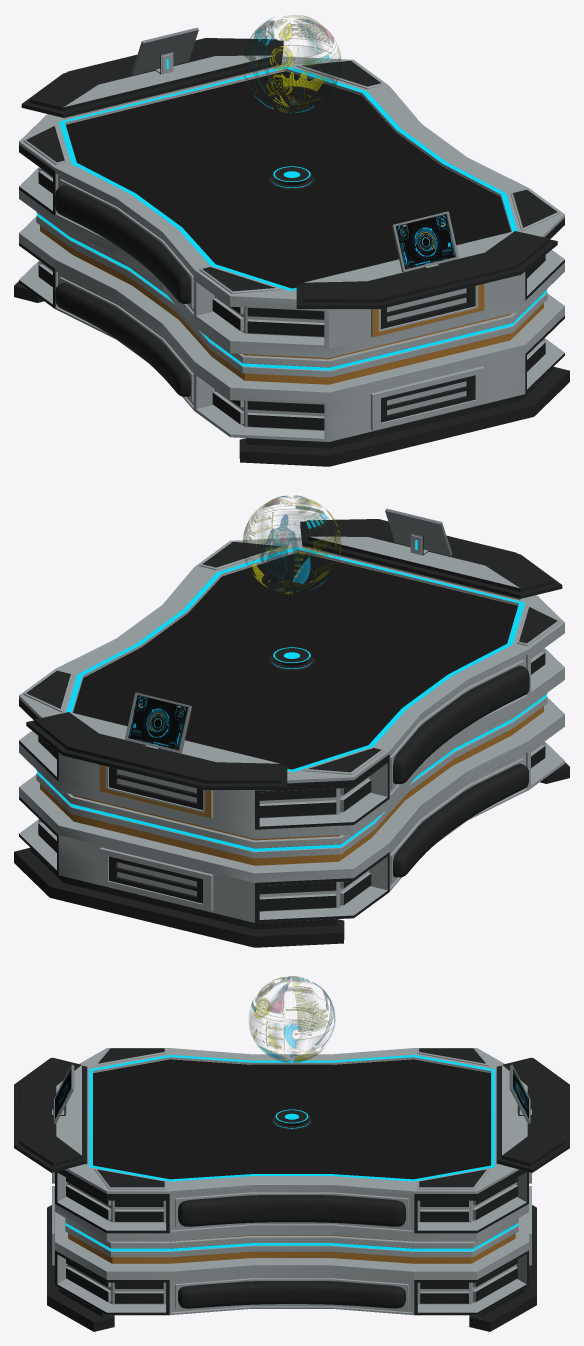
File: Sci Fi Table.fbx
The picture shows the model from 3 angles, top to bottom: view 1: azimuth 30°, elevation 25°; view 2: azimuth 150°, elevation 25°; view 3: azimuth 270°, elevation 25°; orthographic projection. The views are drawn at different scales.
Visible parts, largest first — view 1: Table, Globe, Screen_B, Screen_A; view 2: Table, Globe, Screen_A, Screen_B; view 3: Table, Globe, Screen_A, Screen_B.
Part boxes in pixels (left/top/right/bottom): Table: left=14, top=38, right=569, bottom=466; Globe: left=243, top=15, right=341, bottom=112; Screen_B: left=391, top=211, right=458, bottom=272; Screen_A: left=131, top=27, right=198, bottom=75; Table: left=14, top=519, right=569, bottom=947; Globe: left=243, top=495, right=341, bottom=594; Screen_A: left=125, top=692, right=192, bottom=753; Screen_B: left=385, top=508, right=452, bottom=556; Table: left=14, top=1048, right=569, bottom=1331; Globe: left=249, top=976, right=335, bottom=1062; Screen_A: left=509, top=1064, right=530, bottom=1123; Screen_B: left=53, top=1064, right=74, bottom=1123.
Size of the model in its own units: 815 by 714 by 1278.
8 materials, 2 textured.
